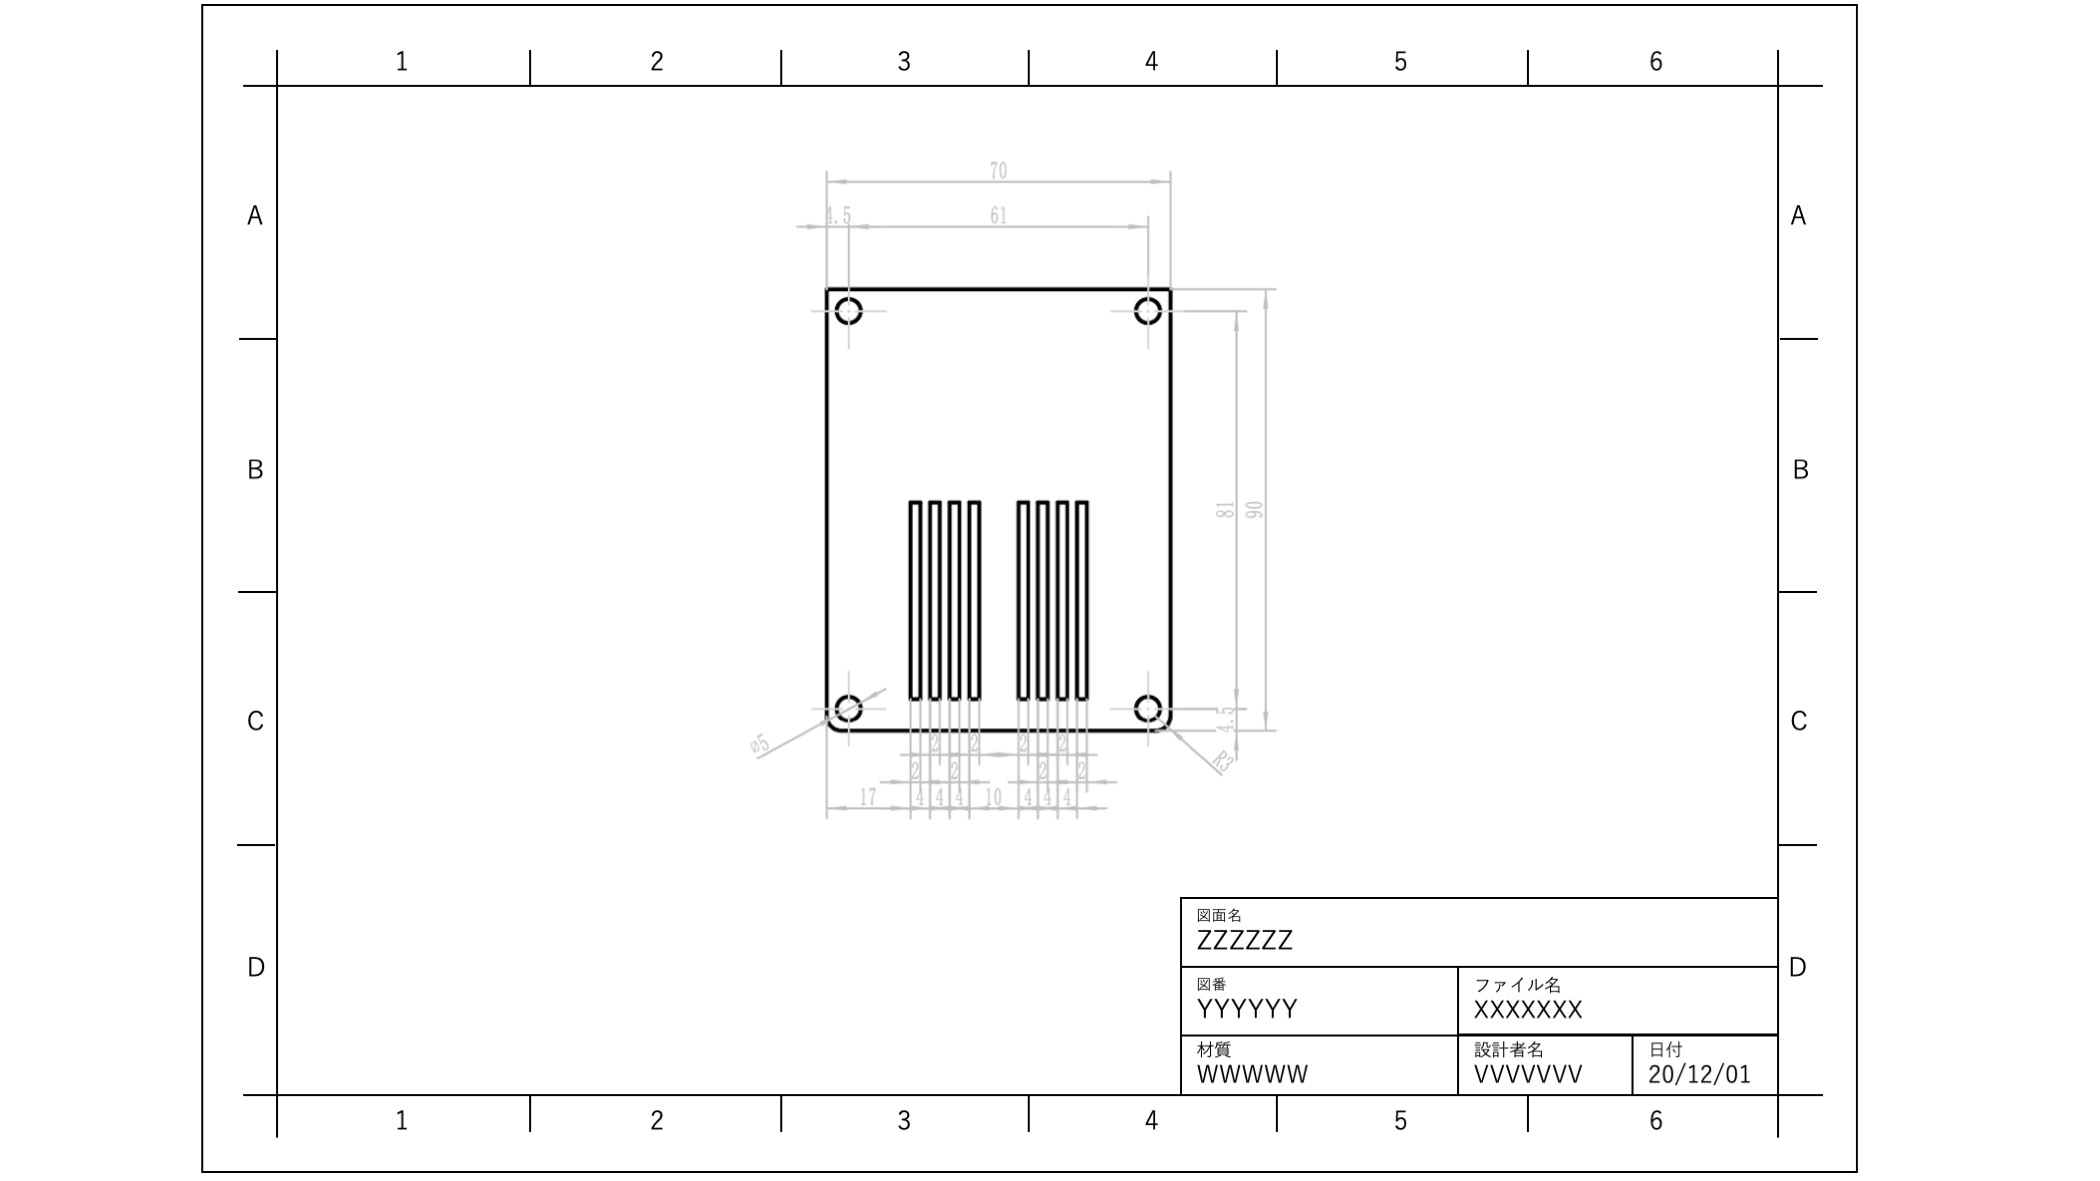circle: (1124, 288, 1162, 329), (828, 291, 865, 324), (1129, 691, 1164, 722), (835, 691, 865, 727)
rectangle: (963, 490, 989, 704), (1010, 489, 1033, 707), (903, 490, 926, 707), (1072, 497, 1095, 708), (1034, 493, 1054, 709), (945, 487, 963, 709), (1053, 489, 1072, 708), (927, 493, 945, 707)
